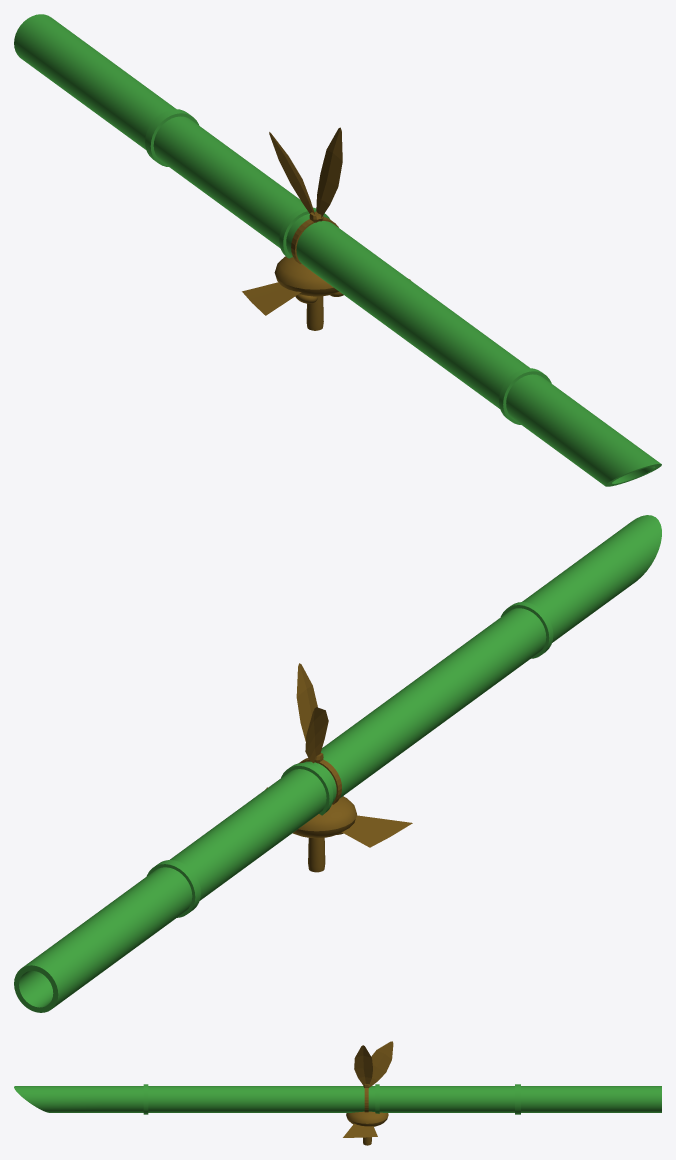
File: Bamboo.fbx
3 renders of one model, top to bottom at view 1: azimuth 30°, elevation 25°; view 2: azimuth 150°, elevation 25°; view 3: azimuth 270°, elevation 25°, orthographic. The views are drawn at different scales.
Visible parts, largest first — view 1: Bamboo; view 2: Bamboo; view 3: Bamboo.
Part boxes in pixels (x1=…): Bamboo: x1=14, y1=14, x2=661, y2=486; Bamboo: x1=14, y1=515, x2=661, y2=1012; Bamboo: x1=14, y1=1041, x2=661, y2=1145.
Bounding box in the file's own units: 29.93 × 39.03 × 218.
